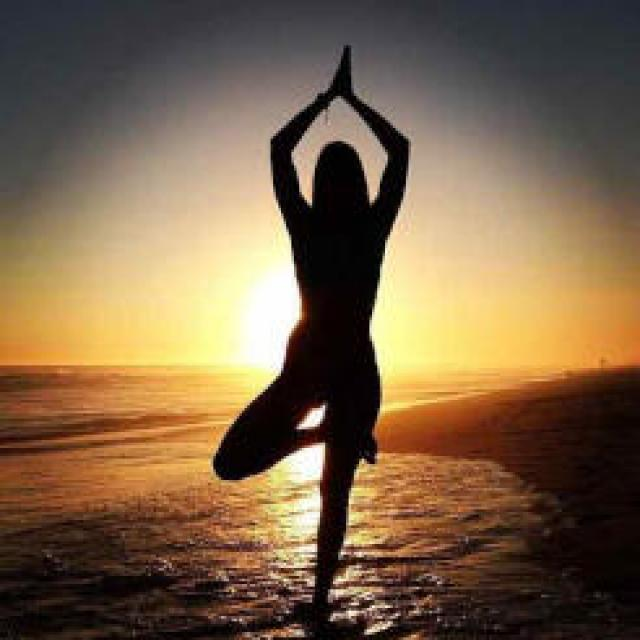yoga-pose tree: (213, 45, 416, 619)
